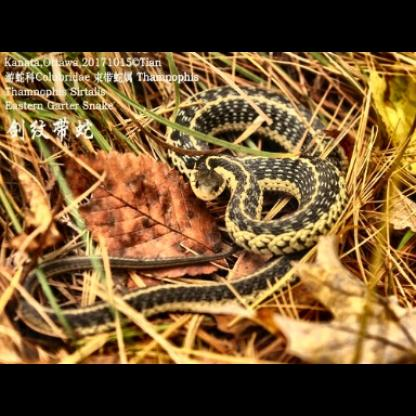Snake: (156, 81, 352, 258)
